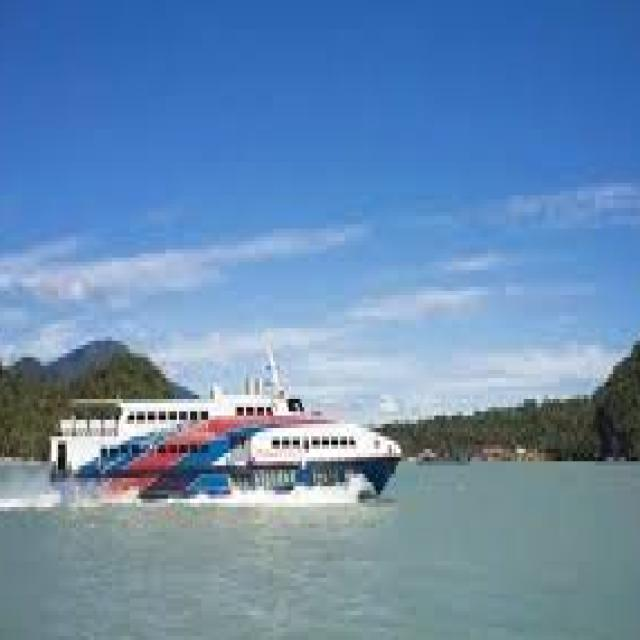passenger ship: (41, 351, 406, 491)
